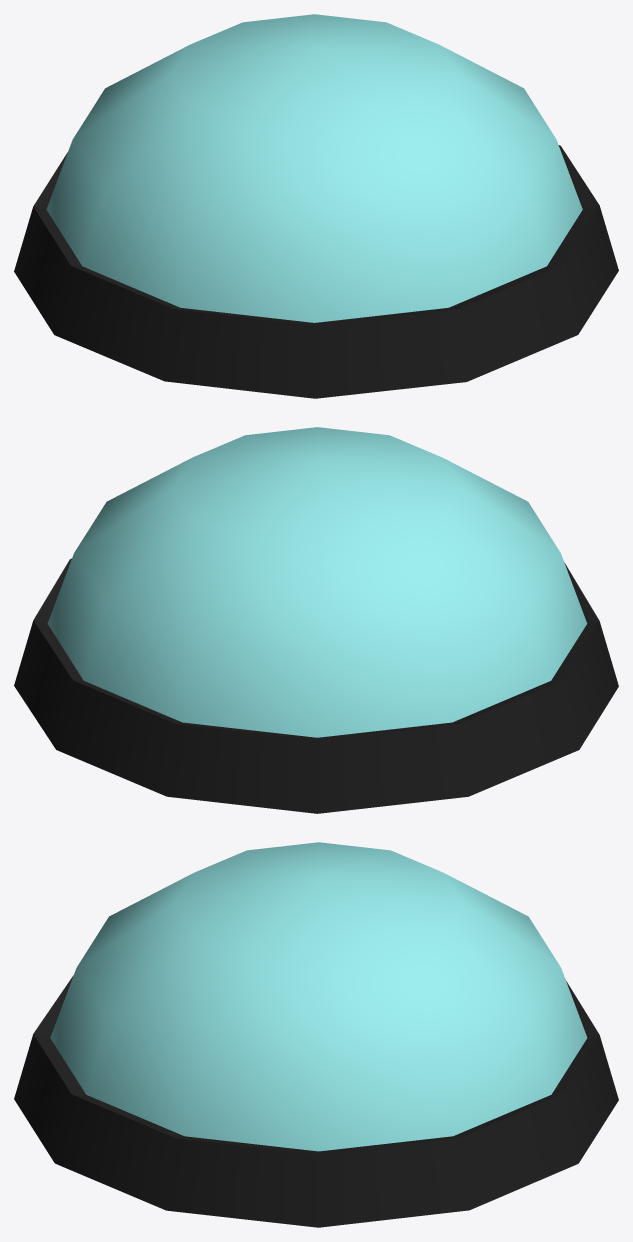
Rendered from lampe_batiment.FBX.
3 renders of one model, top to bottom at view 1: azimuth 30°, elevation 25°; view 2: azimuth 150°, elevation 25°; view 3: azimuth 270°, elevation 25°, orthographic.
Parts seen in each view (by area): view 1: Lampe; view 2: Lampe; view 3: Lampe.
Boxes of the visible parts, bbox=[...] form: Lampe: bbox=[14, 14, 618, 398]; Lampe: bbox=[14, 427, 618, 813]; Lampe: bbox=[14, 842, 618, 1227].
Size of the model in its own units: 42.03 by 17.37 by 42.03.
